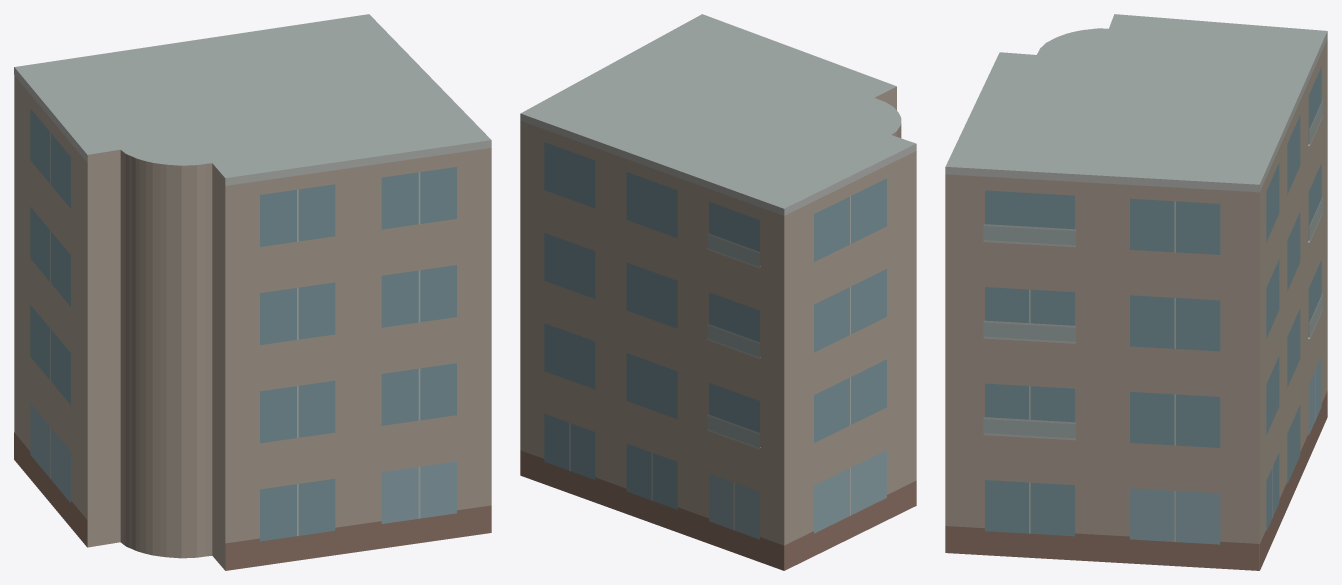
File: survey-upis-32645507.glb
The picture shows the model from 3 angles, left to right: view 1: azimuth 30°, elevation 25°; view 2: azimuth 150°, elevation 25°; view 3: azimuth 270°, elevation 25°; orthographic projection. The views are drawn at different scales.
Visible parts, largest first — view 1: survey-upis-32645507.tmp; view 2: survey-upis-32645507.tmp; view 3: survey-upis-32645507.tmp.
Boxes of the visible parts, x1=… form: survey-upis-32645507.tmp: x1=14, y1=14, x2=491, y2=570; survey-upis-32645507.tmp: x1=520, y1=14, x2=916, y2=570; survey-upis-32645507.tmp: x1=945, y1=14, x2=1327, y2=570.
Bounding box in the file's own units: 11.77 × 12.4 × 11.13.
